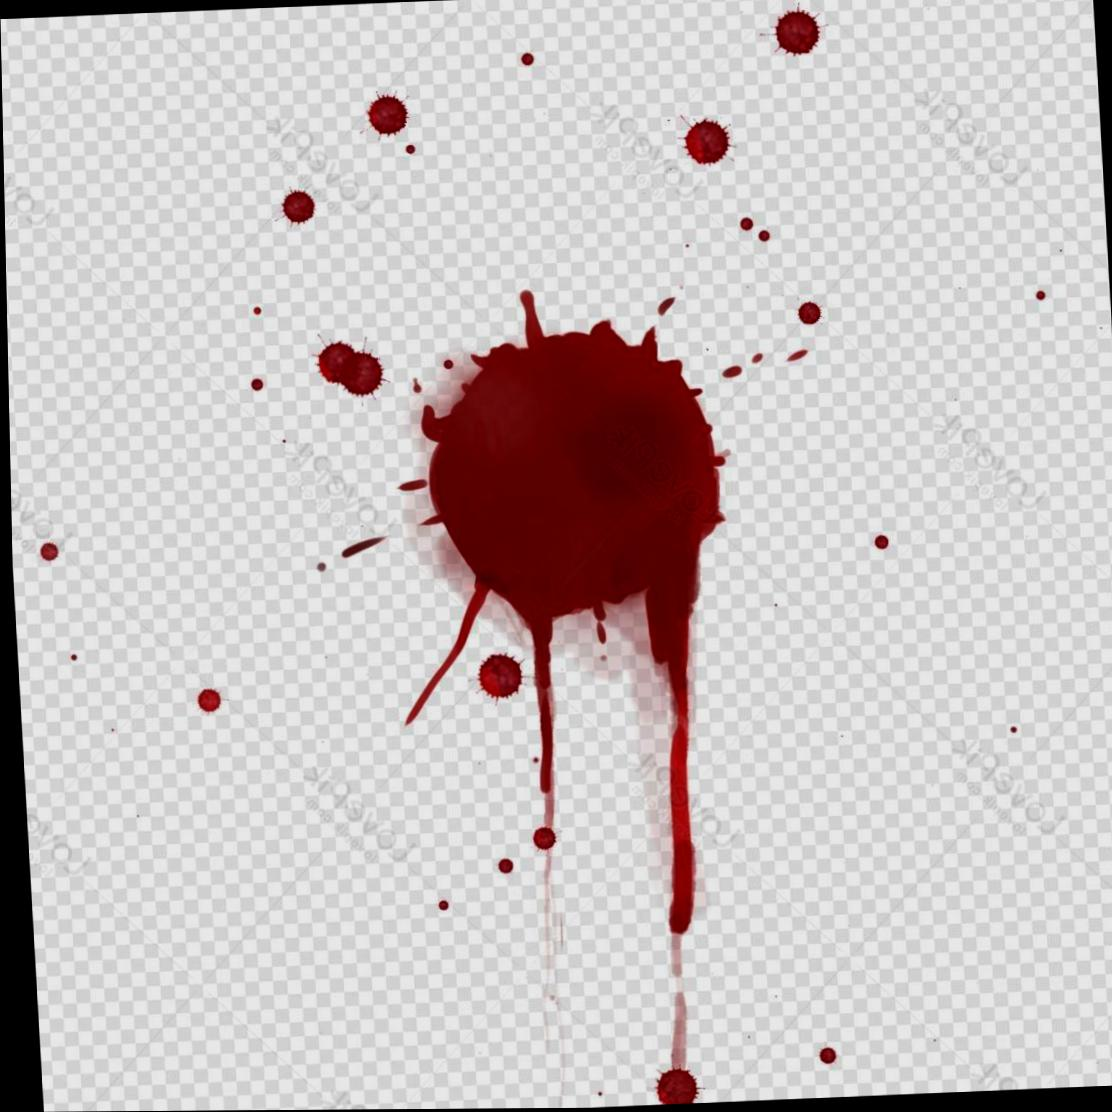Fire: (401, 290, 729, 936), (315, 341, 387, 397), (683, 119, 733, 166), (774, 7, 821, 57), (475, 654, 520, 699), (650, 1068, 696, 1106), (367, 94, 407, 135), (280, 189, 315, 223), (796, 302, 821, 326)
